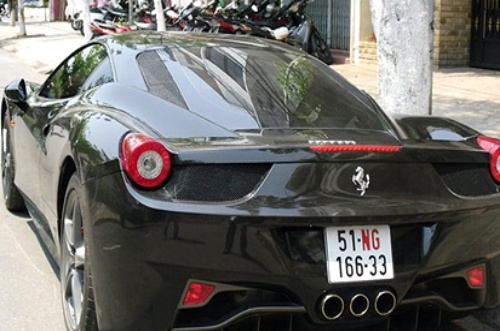plate: (322, 223, 394, 283)
